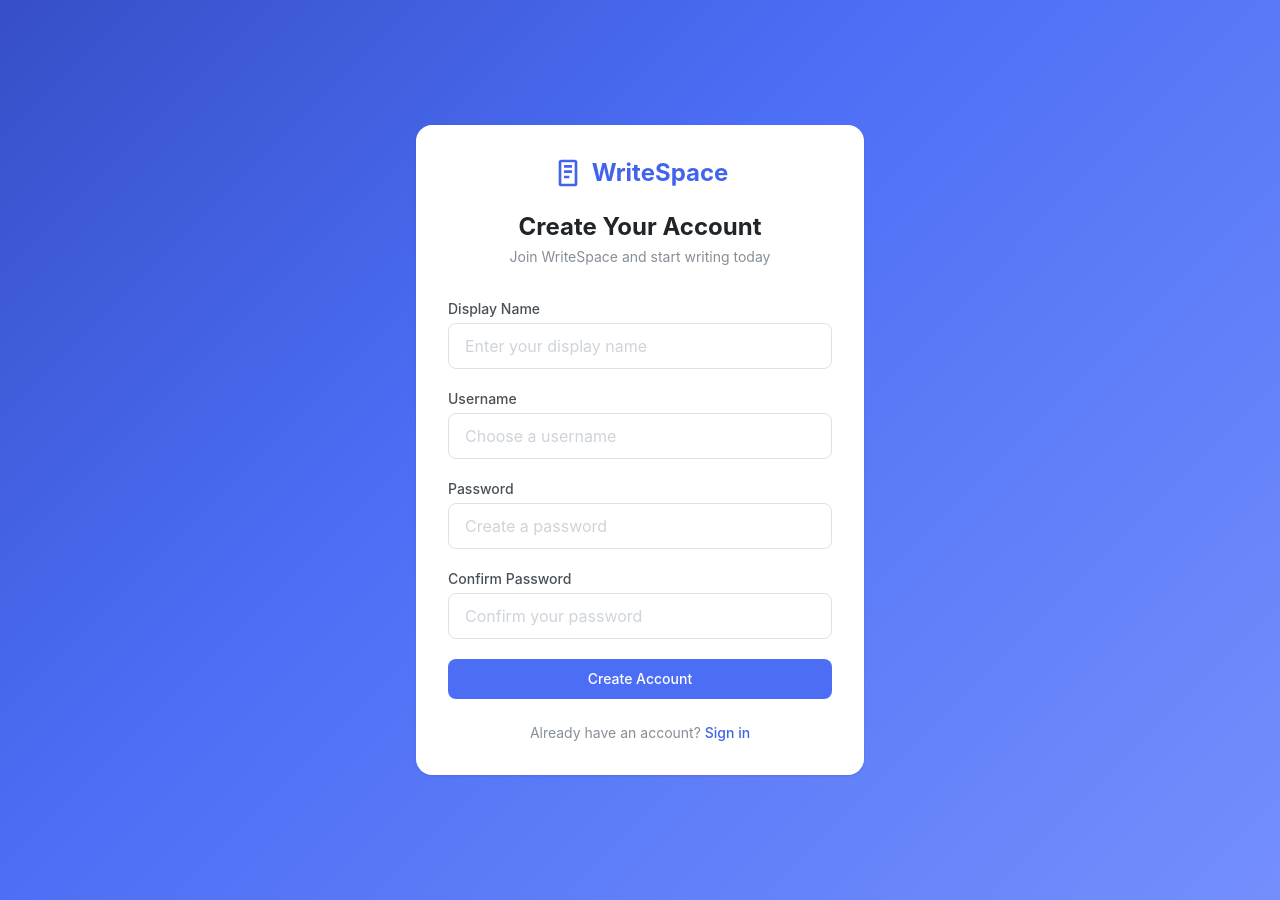
Test: RegisterPage › validation errors › displays an error when registration fails with duplicate username
Type "Alice" into the field labelled "Display Name" at (640, 346), box [448,323,832,369]
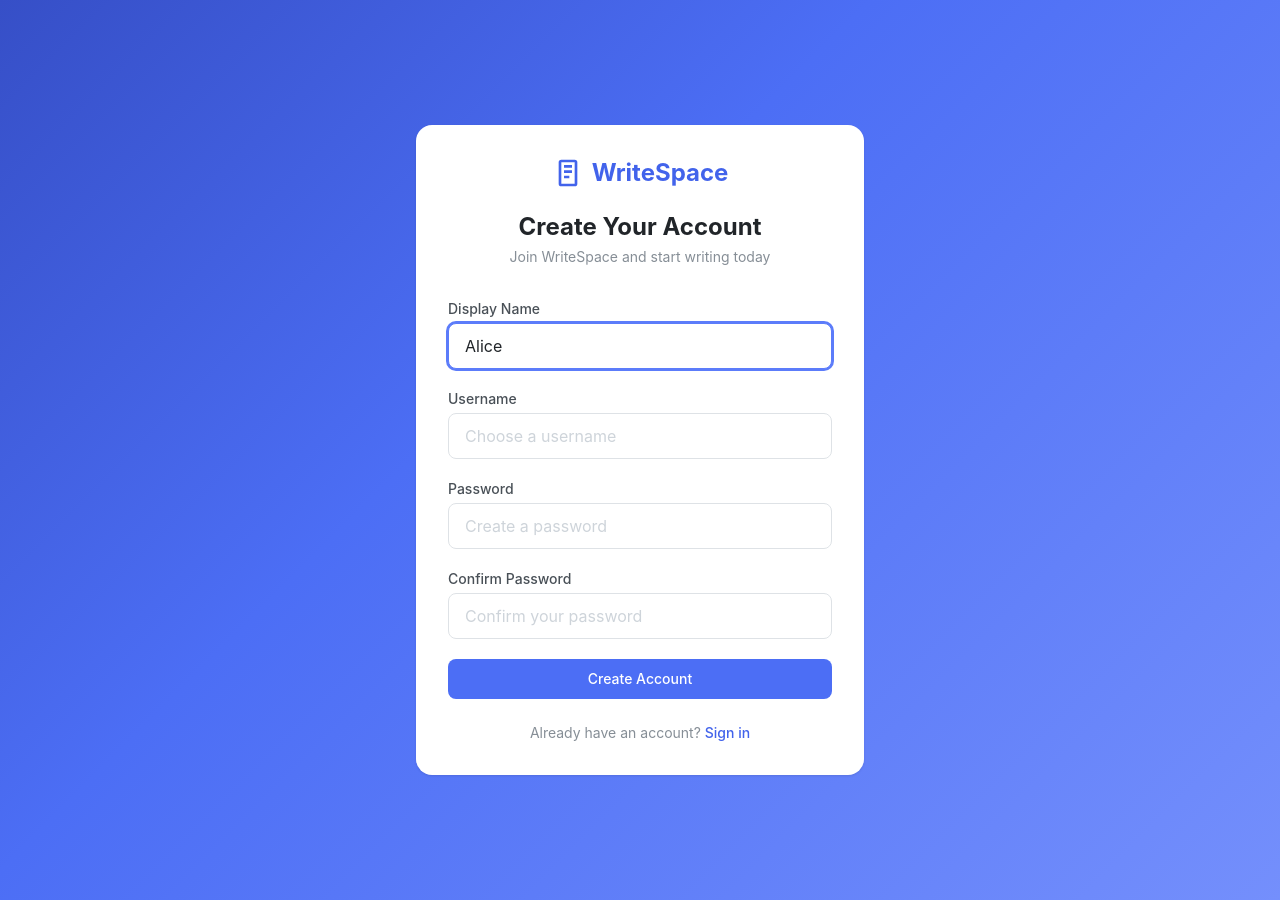
Type "alice" into the field labelled "Username" at (640, 436), box [448,413,832,459]
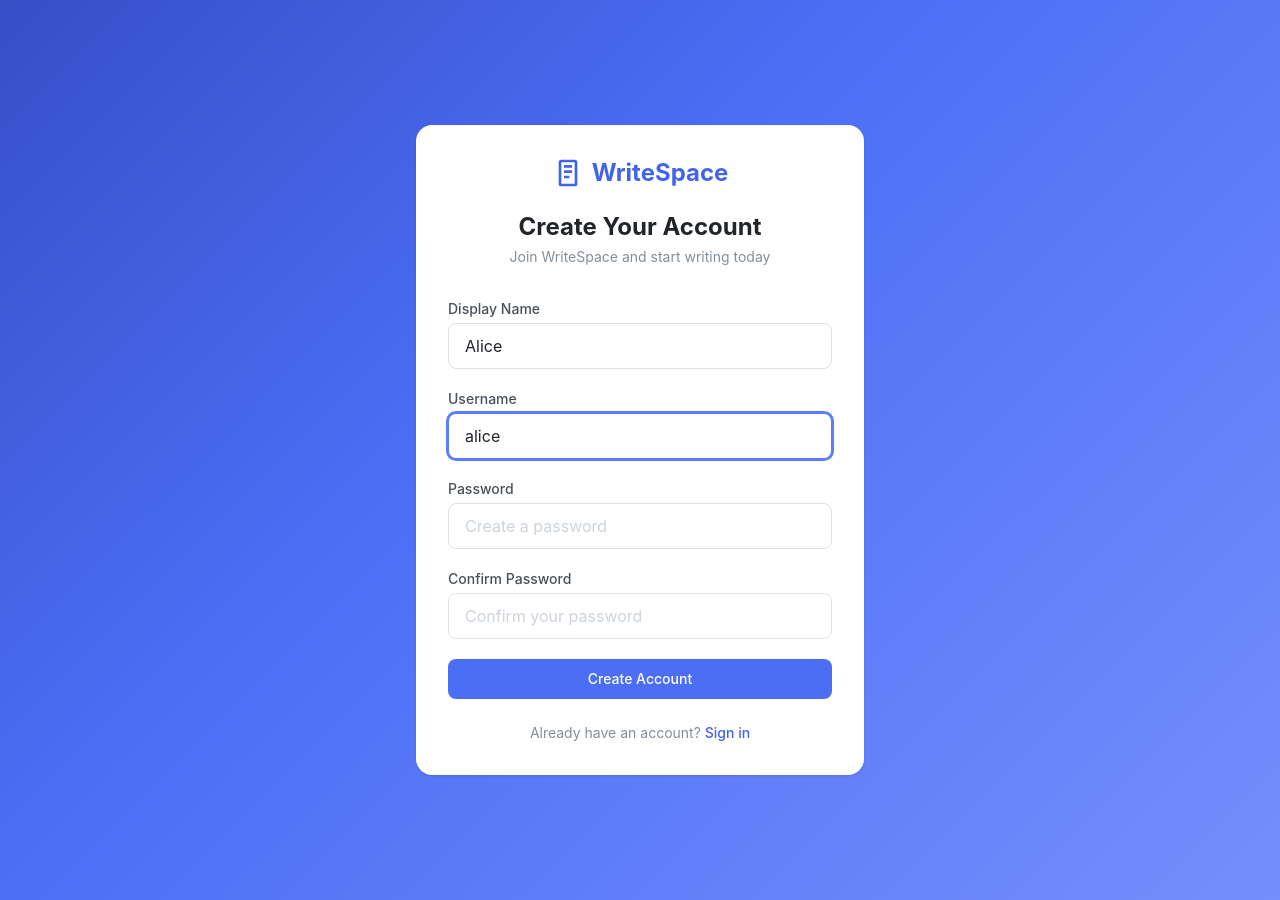
Type "password123" into the password field labelled "Password" at (640, 526), box [448,503,832,549]
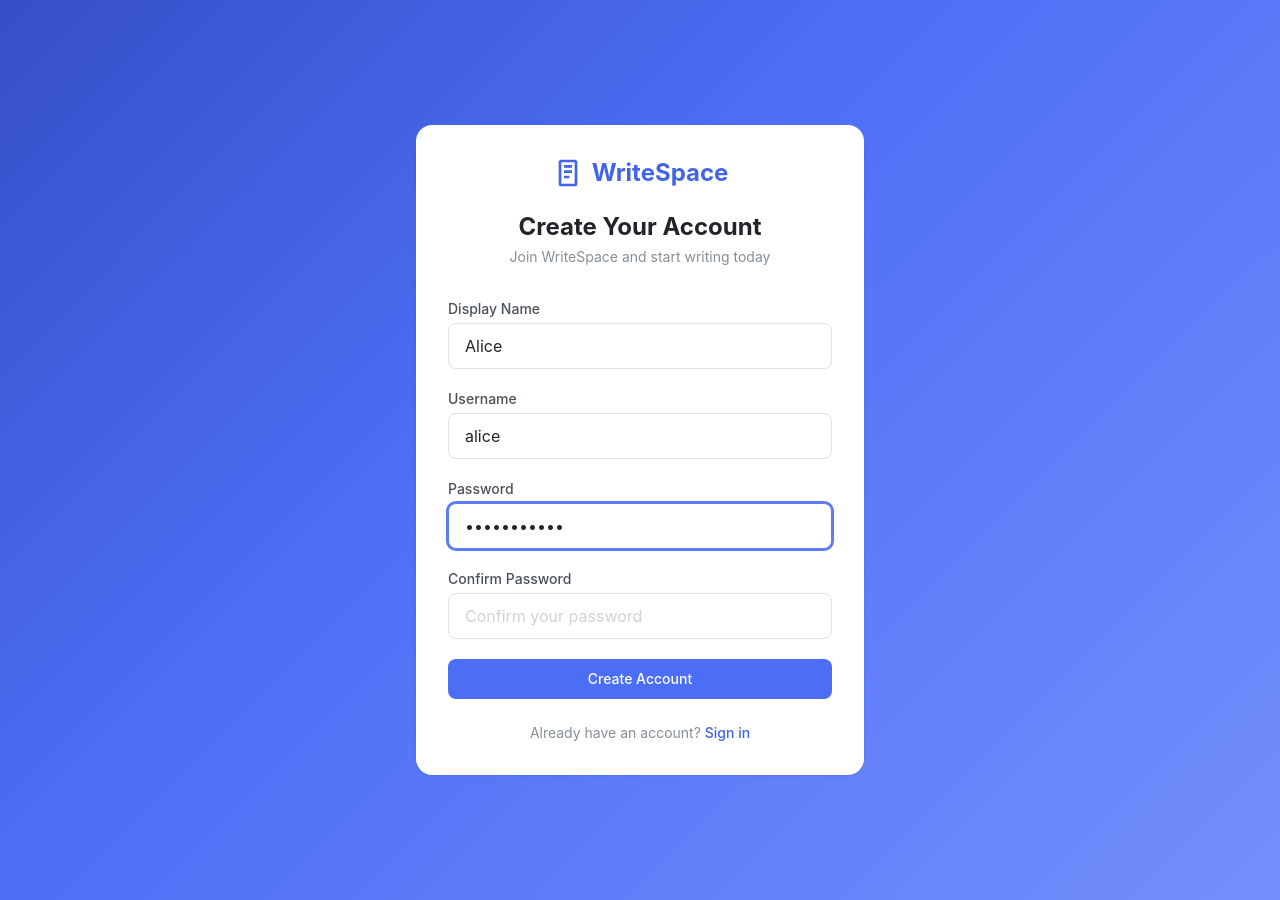
Type "password123" into the password field labelled "Confirm Password" at (640, 616), box [448,593,832,639]
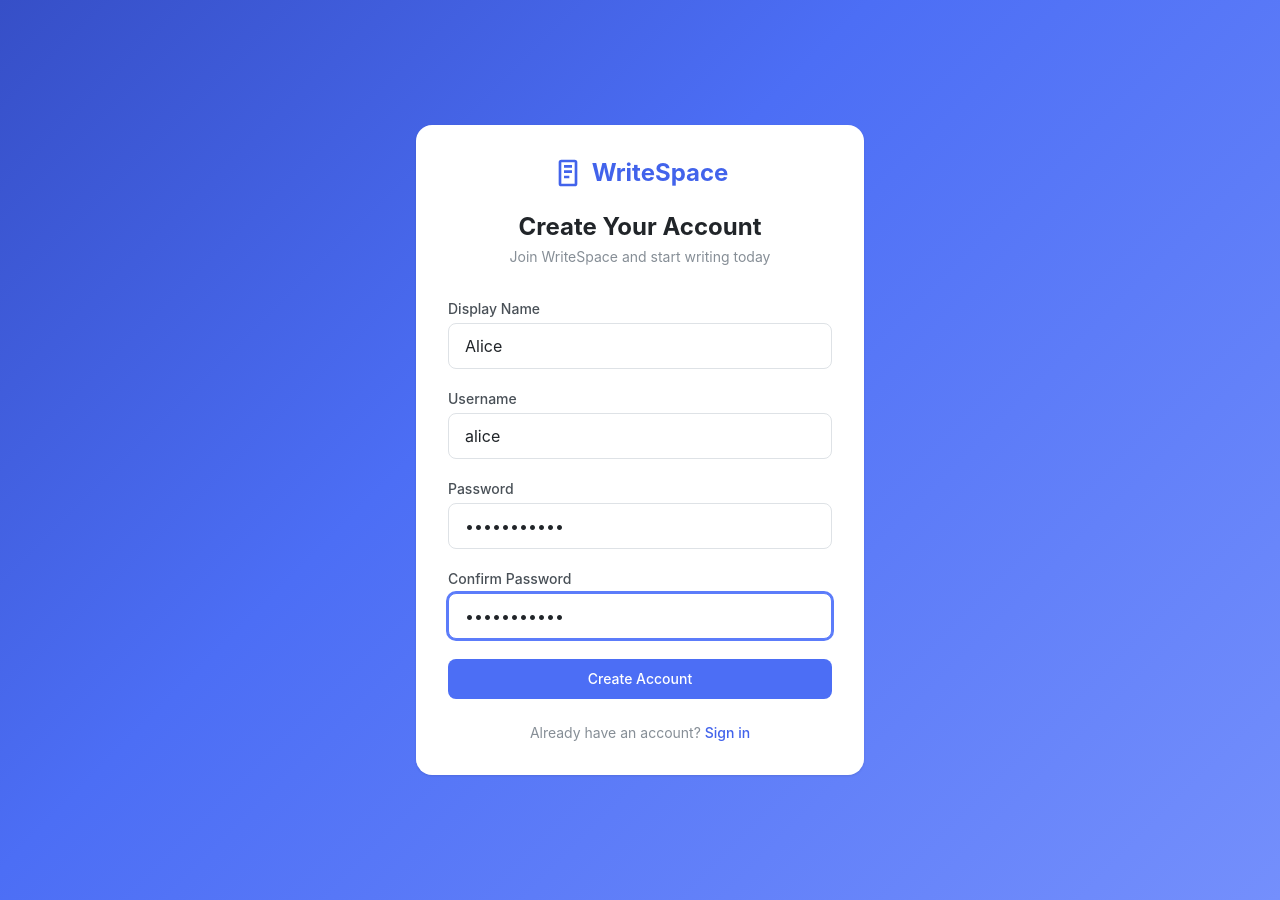
Click the button "Create Account" at (640, 679), box [448,659,832,699]
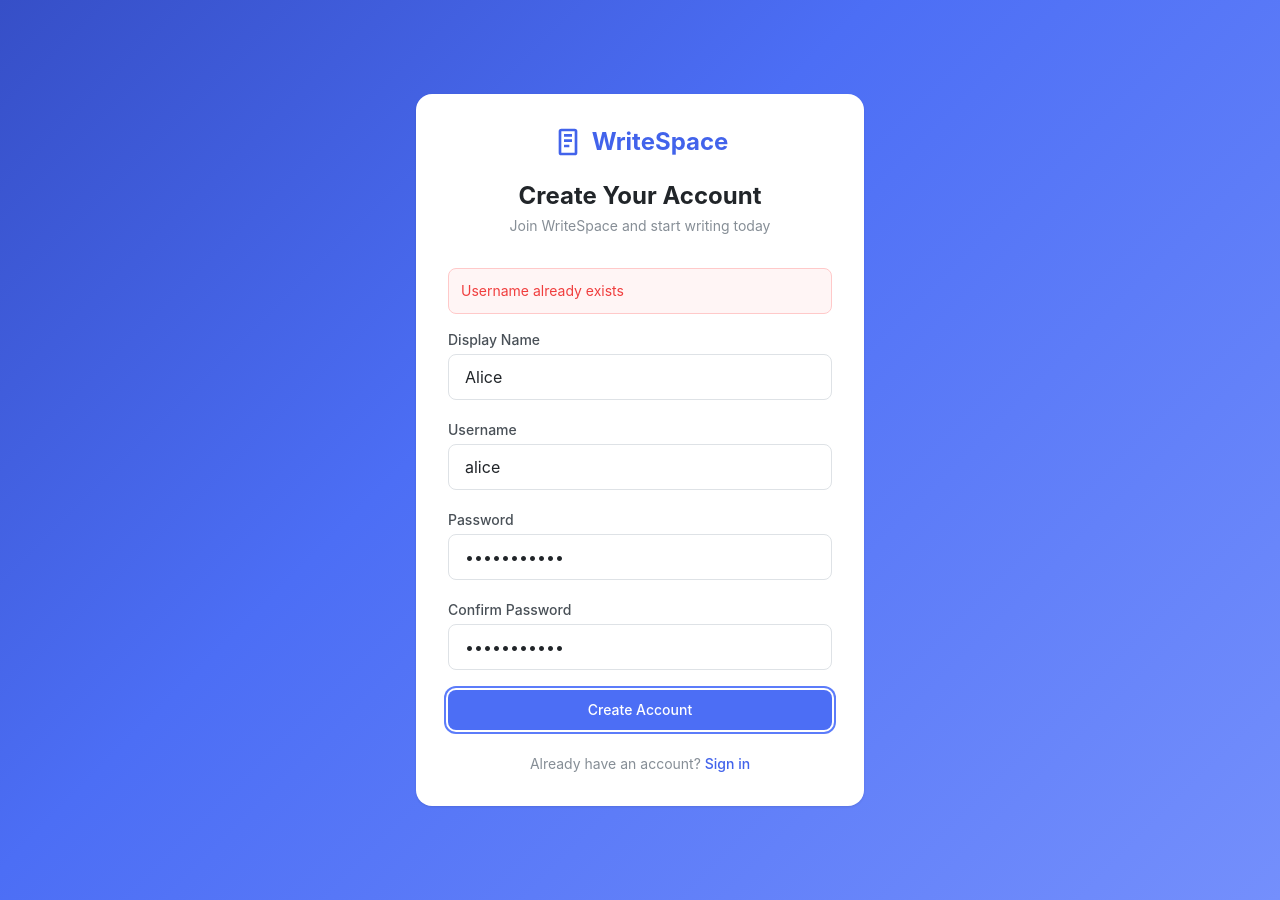
Expected: the message reads "Username already exists", [461,282,624,299]
